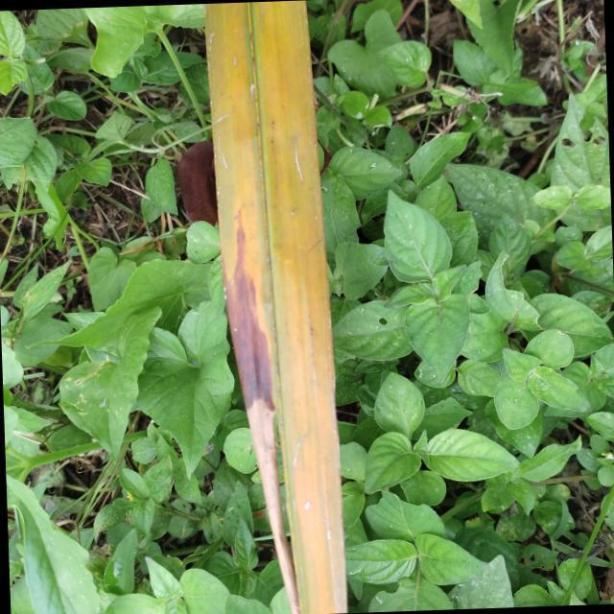Megnesium: (202, 0, 350, 614)
